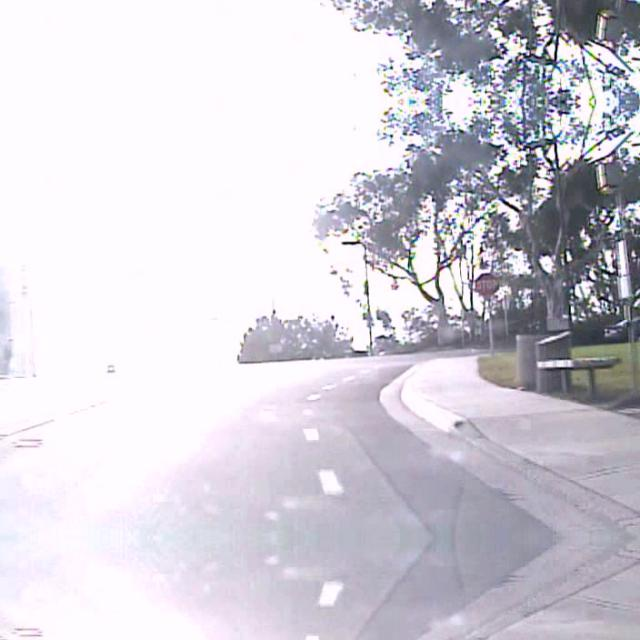stop: (474, 270, 498, 296)
